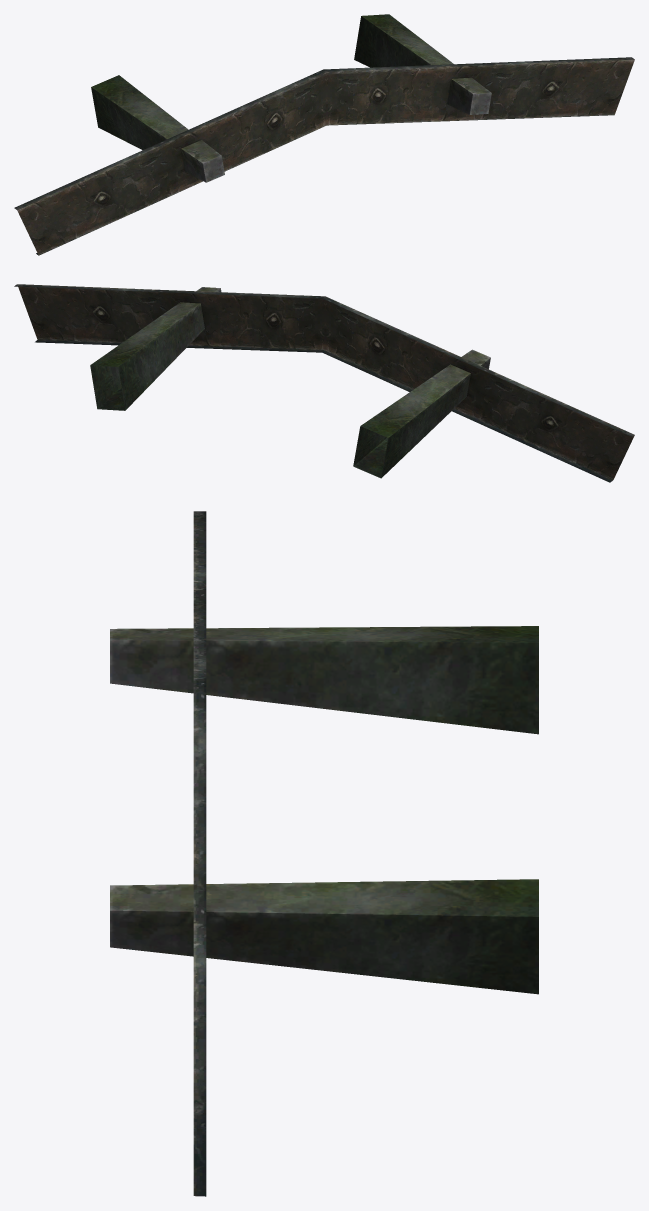
The model's file is juqing_fuben_285_yuantai_01c.obj.
The picture shows the model from 3 angles, top to bottom: view 1: azimuth 30°, elevation 25°; view 2: azimuth 150°, elevation 25°; view 3: azimuth 270°, elevation 25°; orthographic projection. The views are drawn at different scales.
Visible parts, largest first — view 1: juqing_fuben_285_yuantai_01c; view 2: juqing_fuben_285_yuantai_01c; view 3: juqing_fuben_285_yuantai_01c.
Boxes of the visible parts, x1=… form: juqing_fuben_285_yuantai_01c: x1=14, y1=14, x2=634, y2=255; juqing_fuben_285_yuantai_01c: x1=14, y1=284, x2=634, y2=482; juqing_fuben_285_yuantai_01c: x1=110, y1=511, x2=538, y2=1196.
Bounding box in the file's own units: 748 × 132 × 225.
2 materials, 2 textured.
